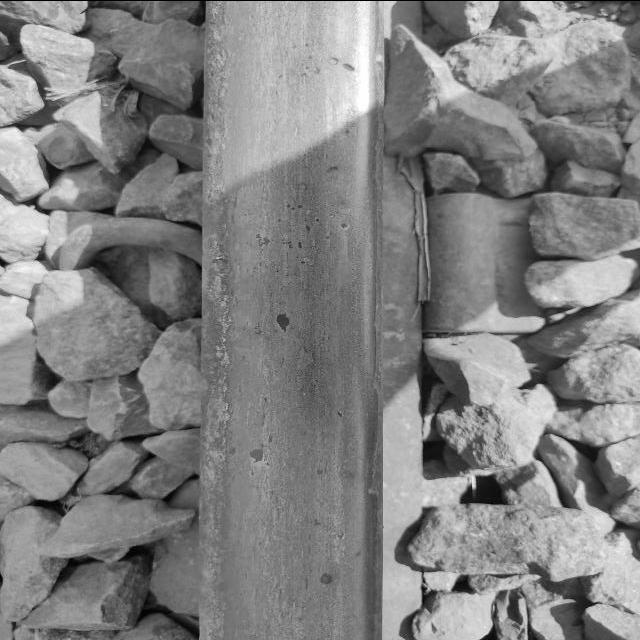squats_high: (311, 53, 354, 73), (271, 313, 293, 329), (320, 161, 340, 176), (318, 571, 337, 585), (246, 448, 268, 460), (336, 220, 348, 230)
